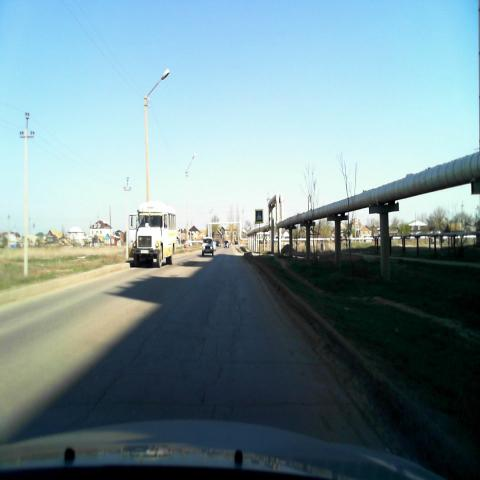5_19_1: (255, 210, 263, 224)
